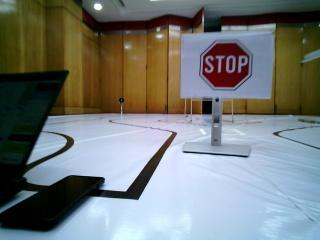stop: (189, 36, 265, 96)
